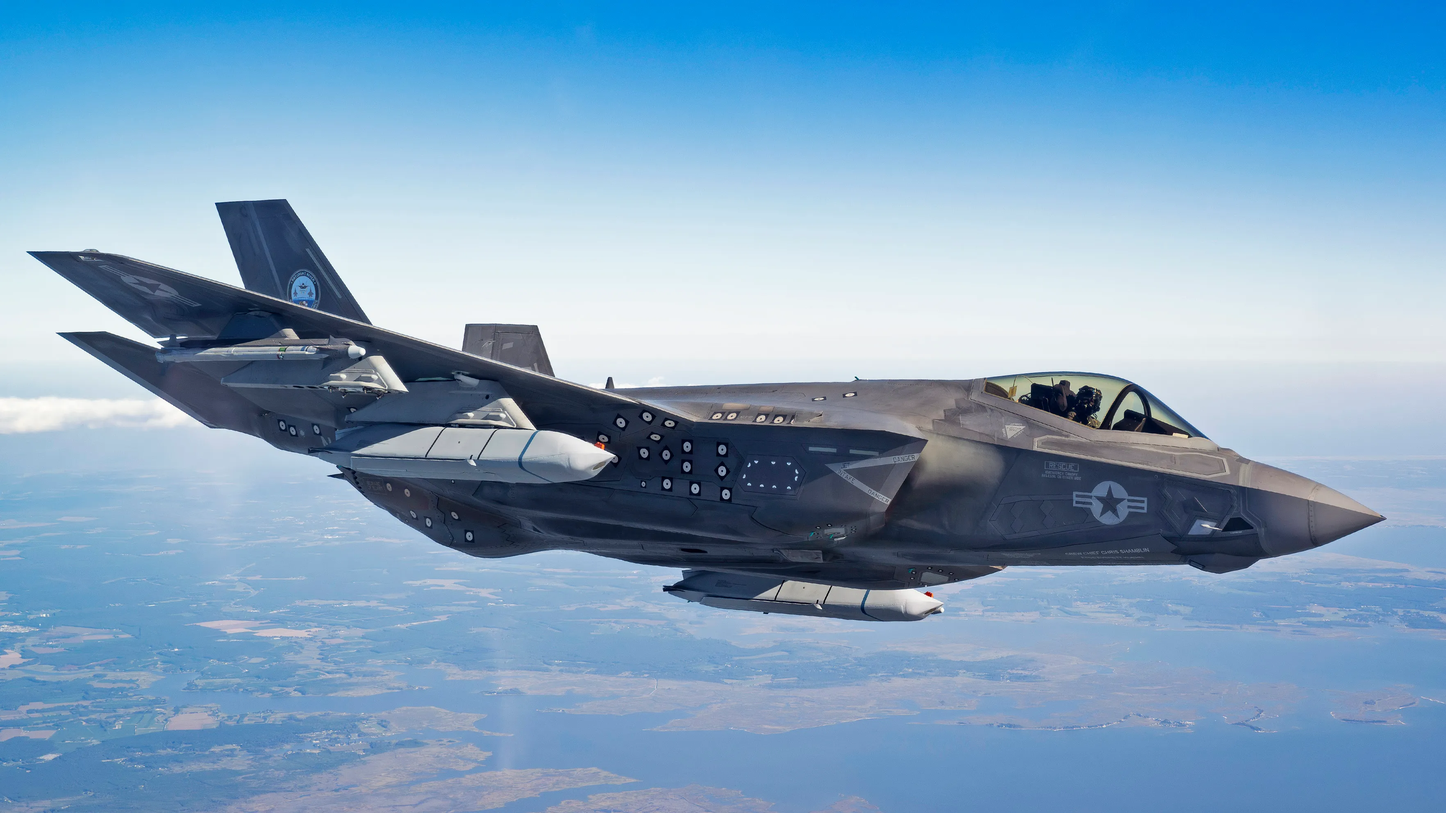F35: (20, 187, 1402, 634)
